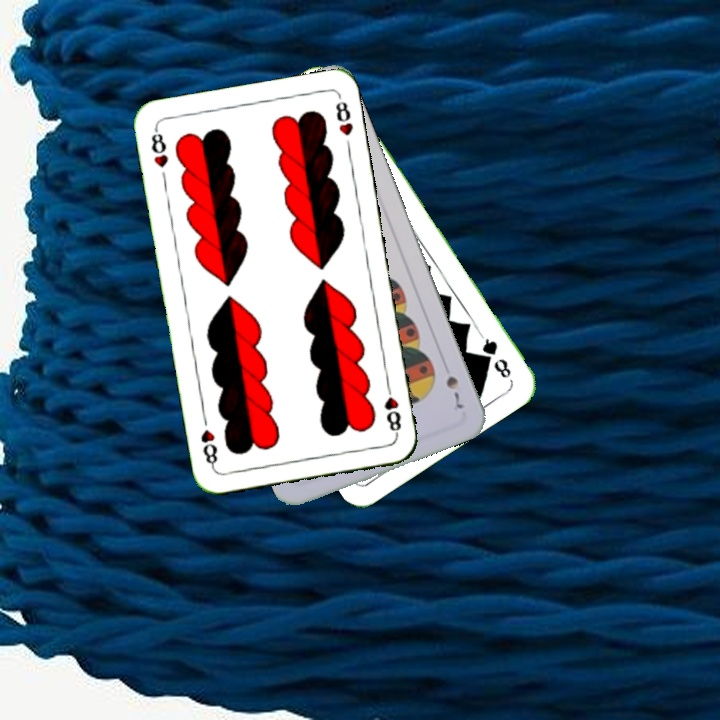G8: (476, 331, 514, 381)
H8: (380, 379, 404, 438), (147, 125, 171, 171)
S7: (441, 372, 466, 412)
